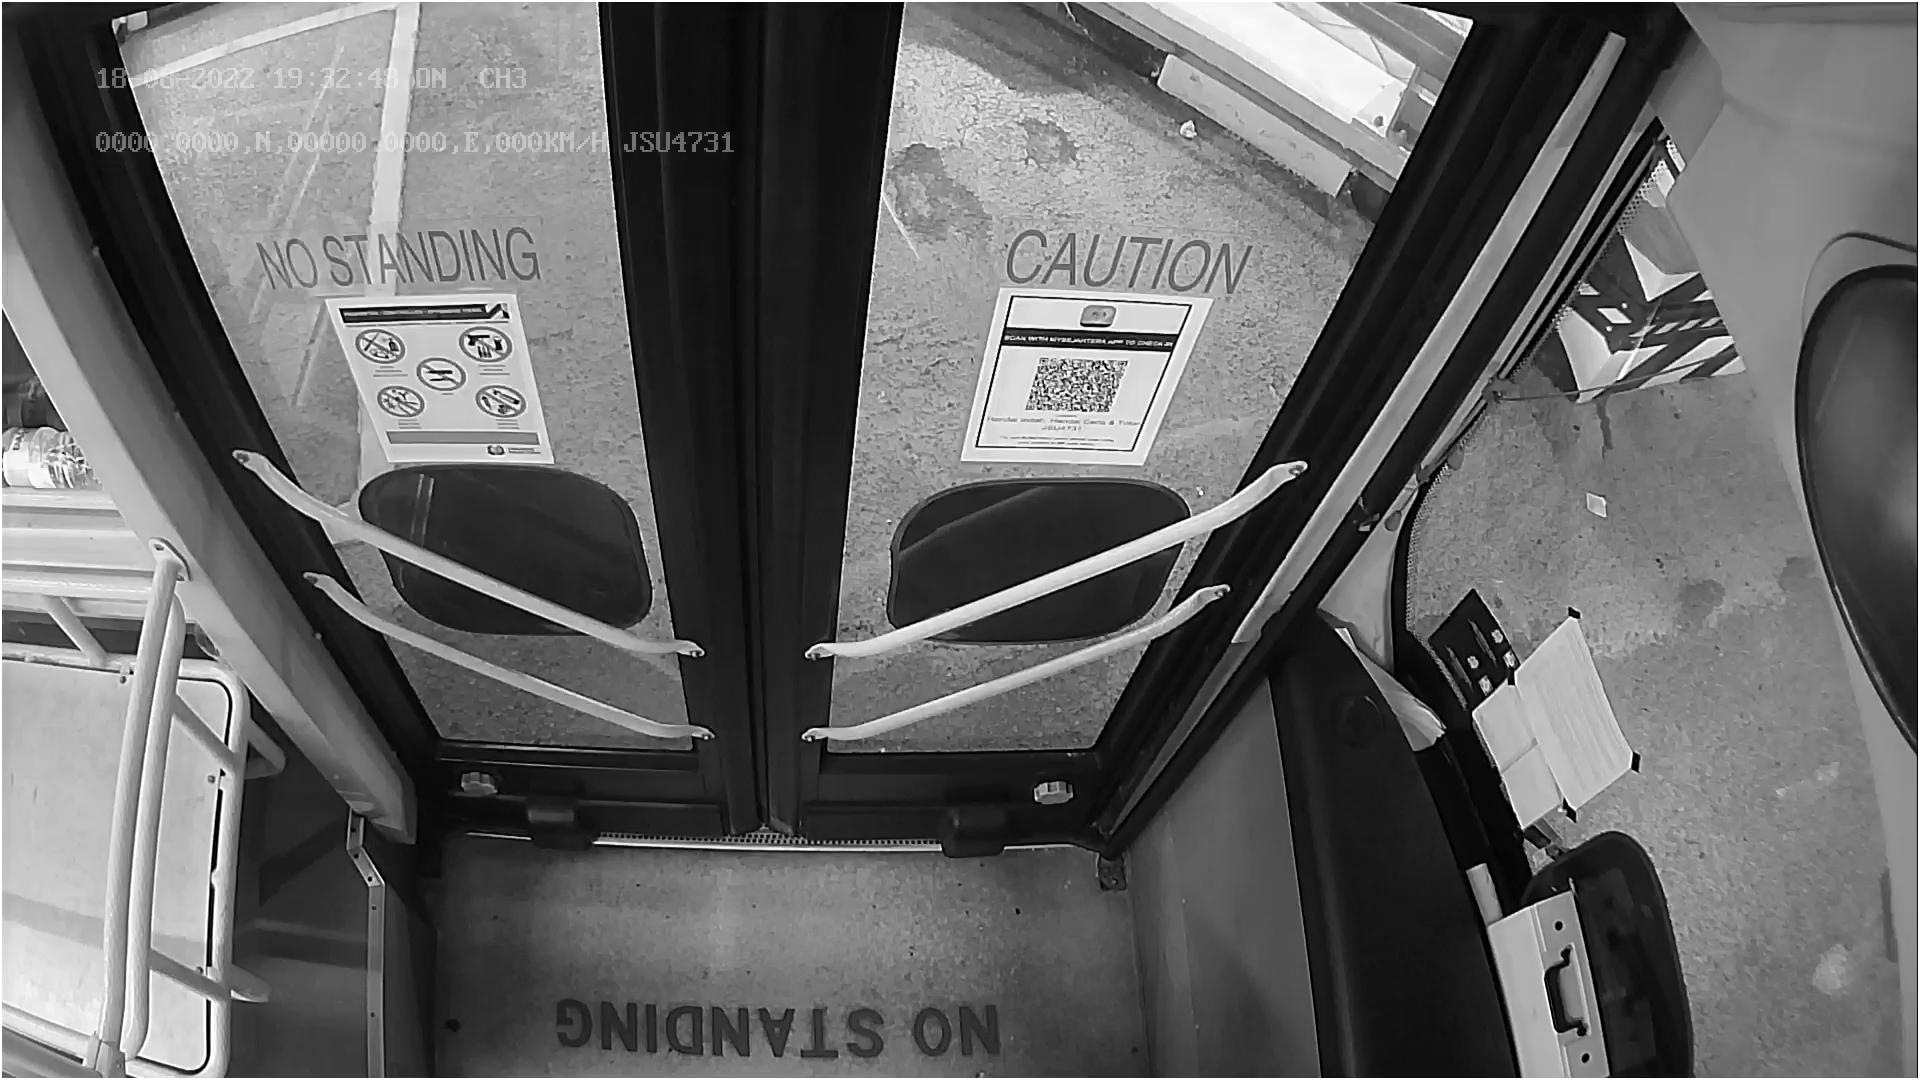close: (128, 0, 1444, 164)
